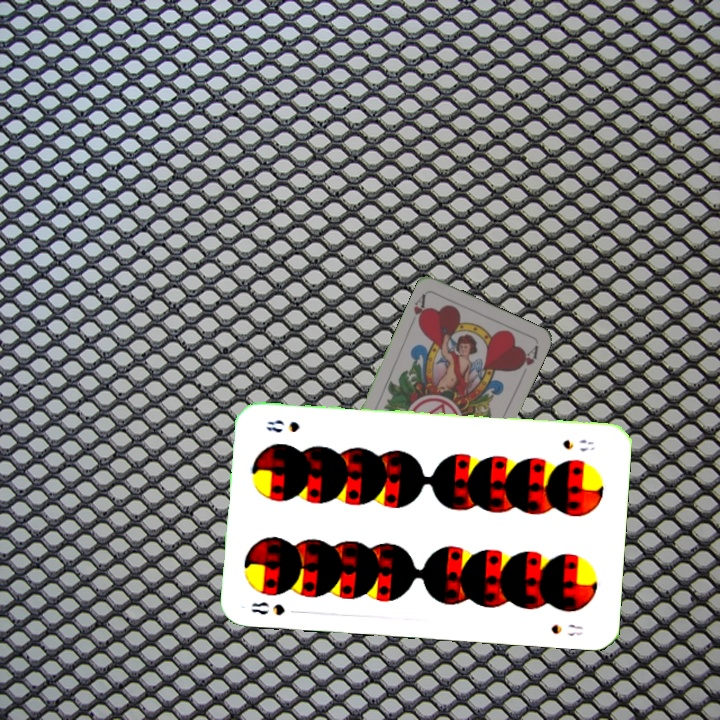HA: (409, 289, 430, 329)
S8: (247, 598, 288, 618), (558, 435, 597, 454)
